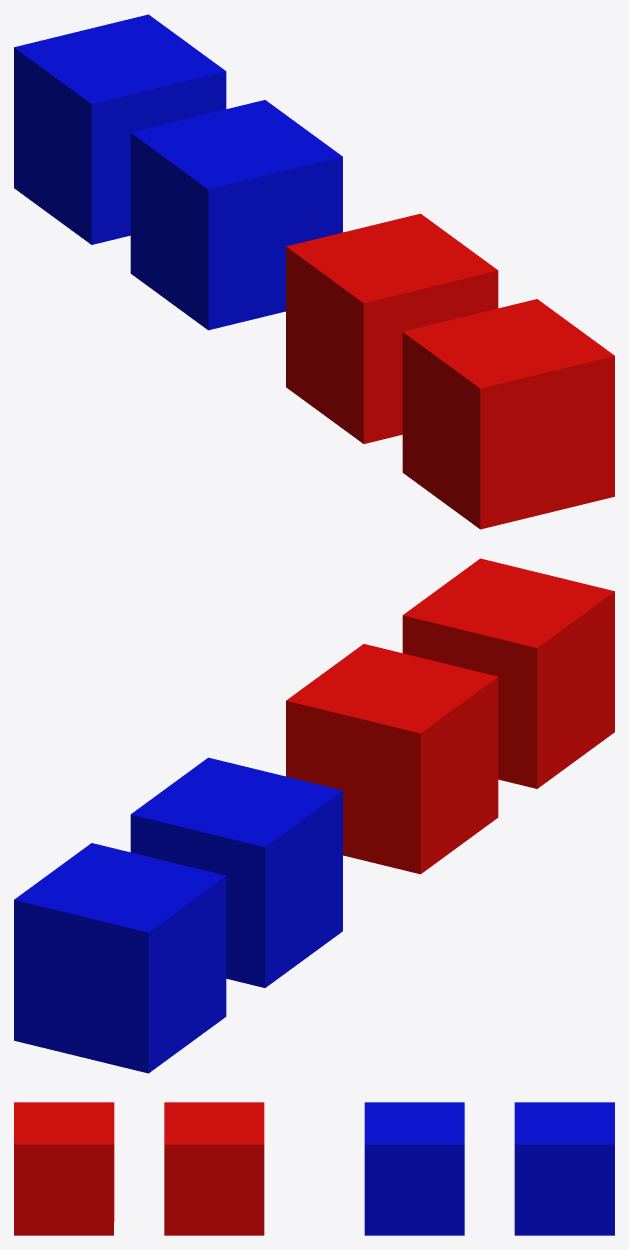
The picture shows the model from 3 angles, top to bottom: view 1: azimuth 30°, elevation 25°; view 2: azimuth 150°, elevation 25°; view 3: azimuth 270°, elevation 25°; orthographic projection. The views are drawn at different scales.
Visible parts, largest first — view 1: Cube.001, Cube, Cube.002; view 2: Cube.001, Cube.002, Cube; view 3: Cube.001, Cube, Cube.002.
Boxes of the visible parts, box(x1,y1,x2,y2) form: Cube.001: box(286, 213, 614, 529); Cube: box(130, 100, 342, 330); Cube.002: box(14, 14, 226, 244); Cube.001: box(286, 558, 614, 874); Cube.002: box(14, 843, 226, 1073); Cube: box(130, 757, 342, 987); Cube.001: box(14, 1102, 264, 1235); Cube: box(364, 1102, 464, 1235); Cube.002: box(514, 1102, 614, 1235).
Size of the model in its own units: 200 by 200 by 1200.
